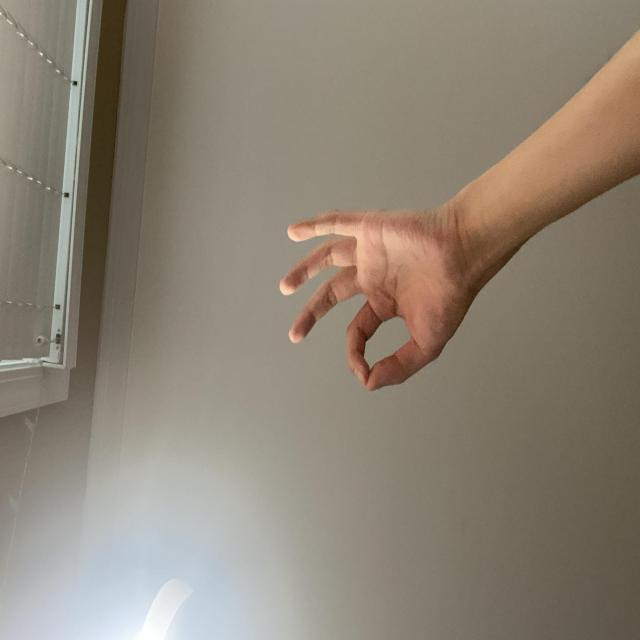F: (185, 366, 326, 632)
